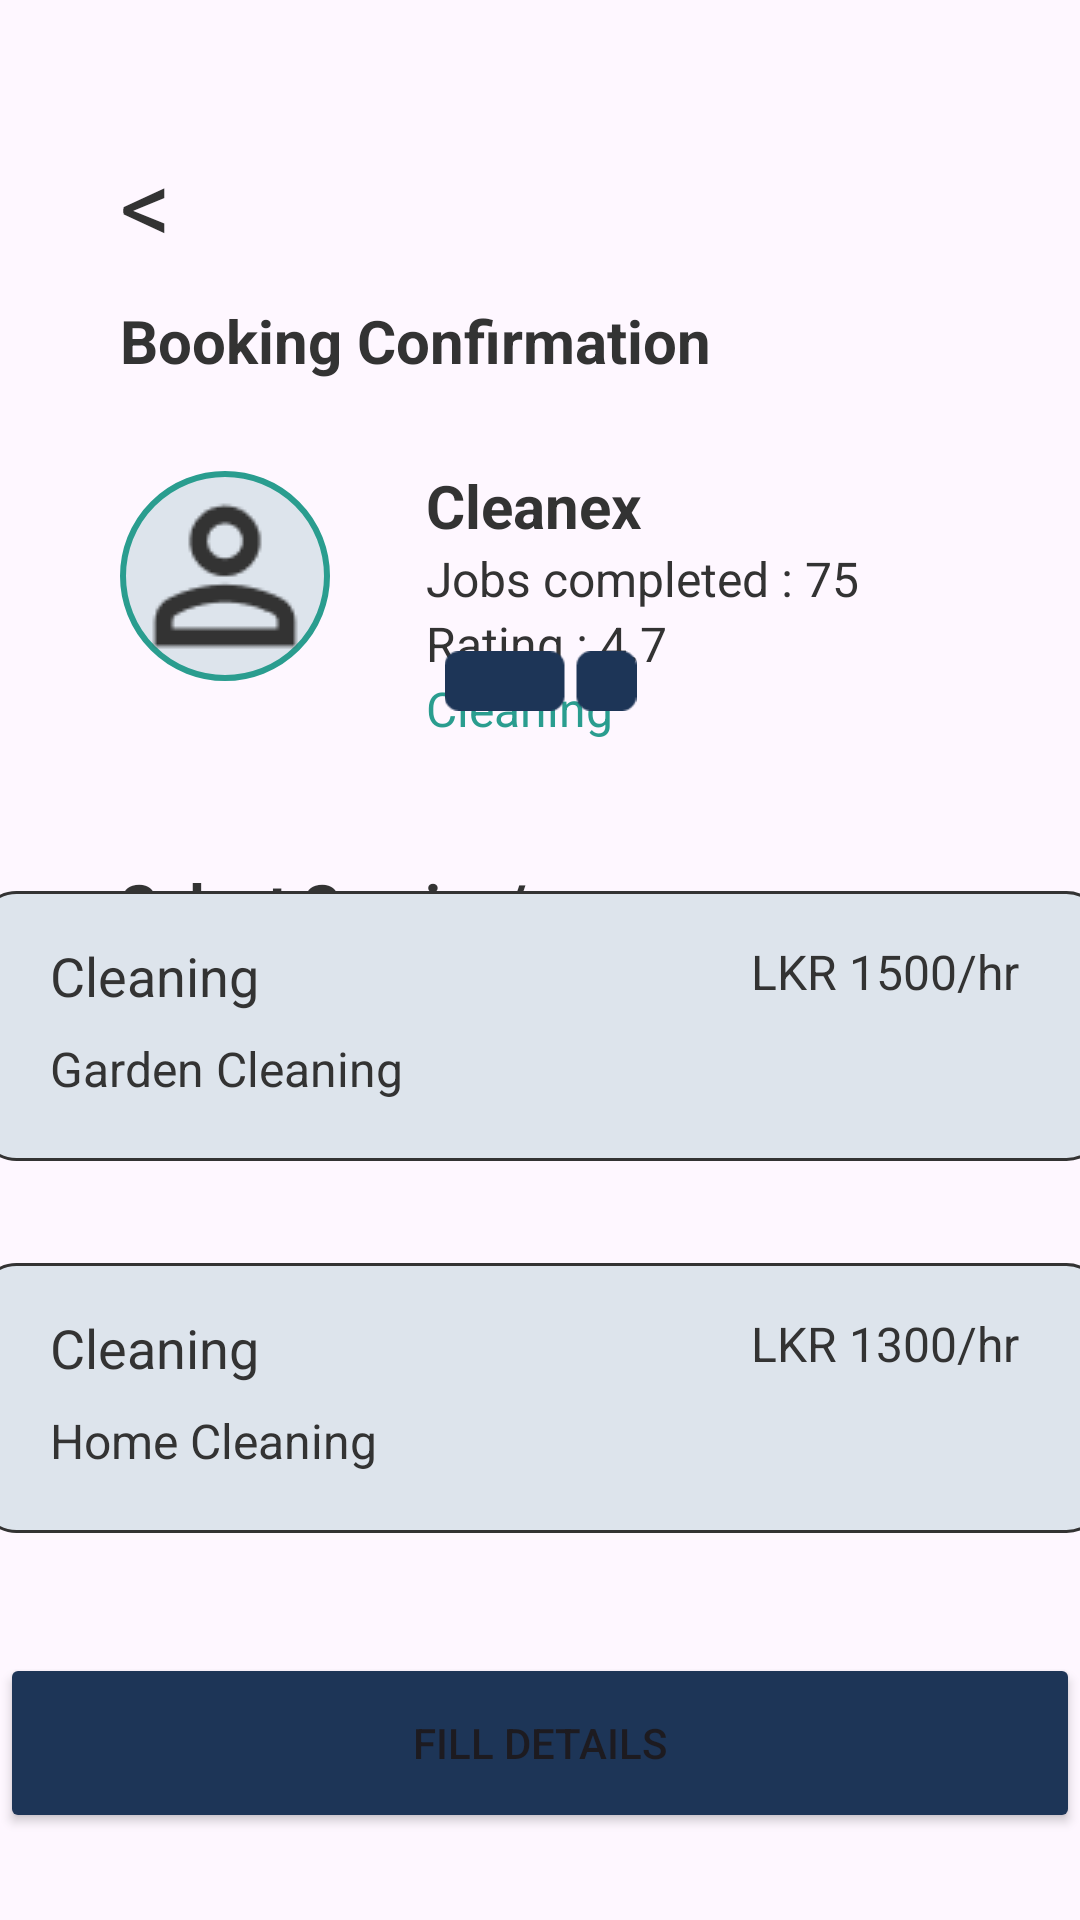

Screen size 1080 × 1920. Icon name, then its box in pixels as (x1, y1, x2, y2):
person1: (120, 471, 330, 681)
